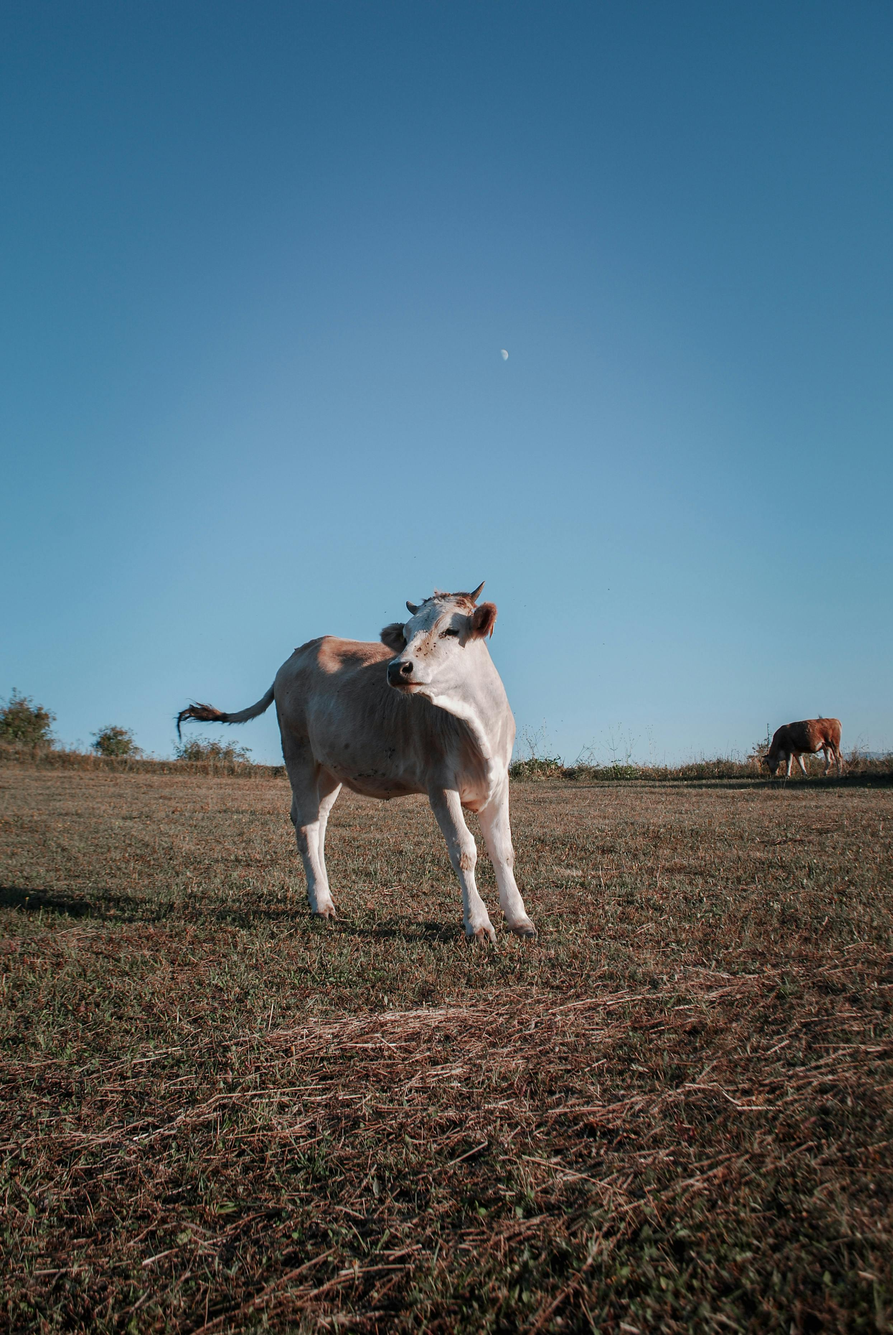bovino: (271, 582, 532, 939)
